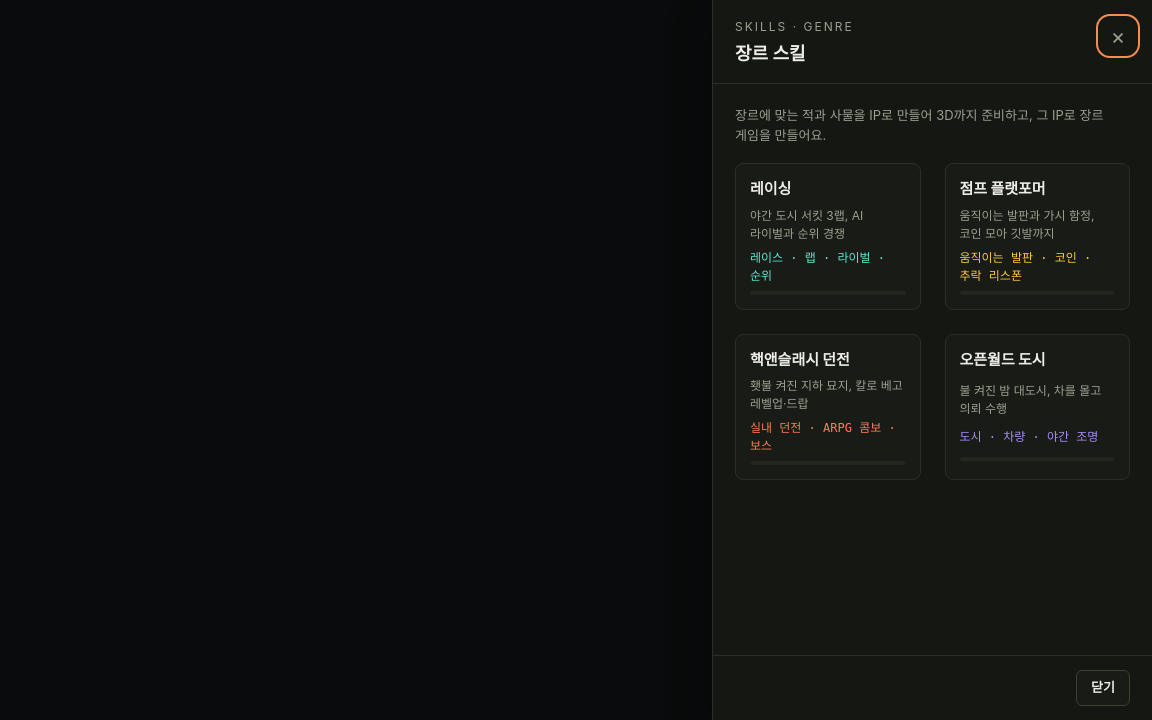
it: R20-38 장르 스킬 says what its button starts and asks before it starts › asks first with the pictures, the 3D models and the time, and starts nothing on 취소
Later steps or results of the test are not shown.
Step 1. Click the button "레이싱 야간 도시 서킷 3랩, AI 라이벌과 순위 경쟁 레이스 · 랩 · 라이벌 · 순위" → (828, 236), box [735, 163, 920, 310]
(page scrolled)
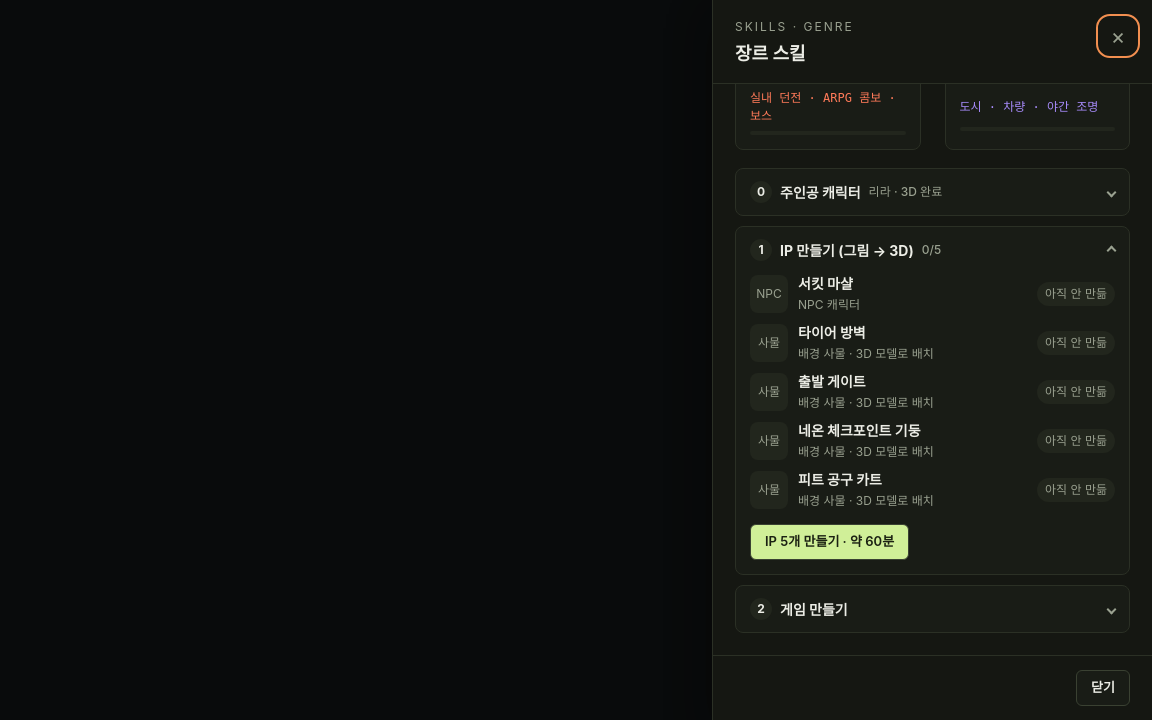
Step 2. Click the button "IP 5개 만들기 · 약 60분" → (830, 542), box [750, 524, 909, 560]
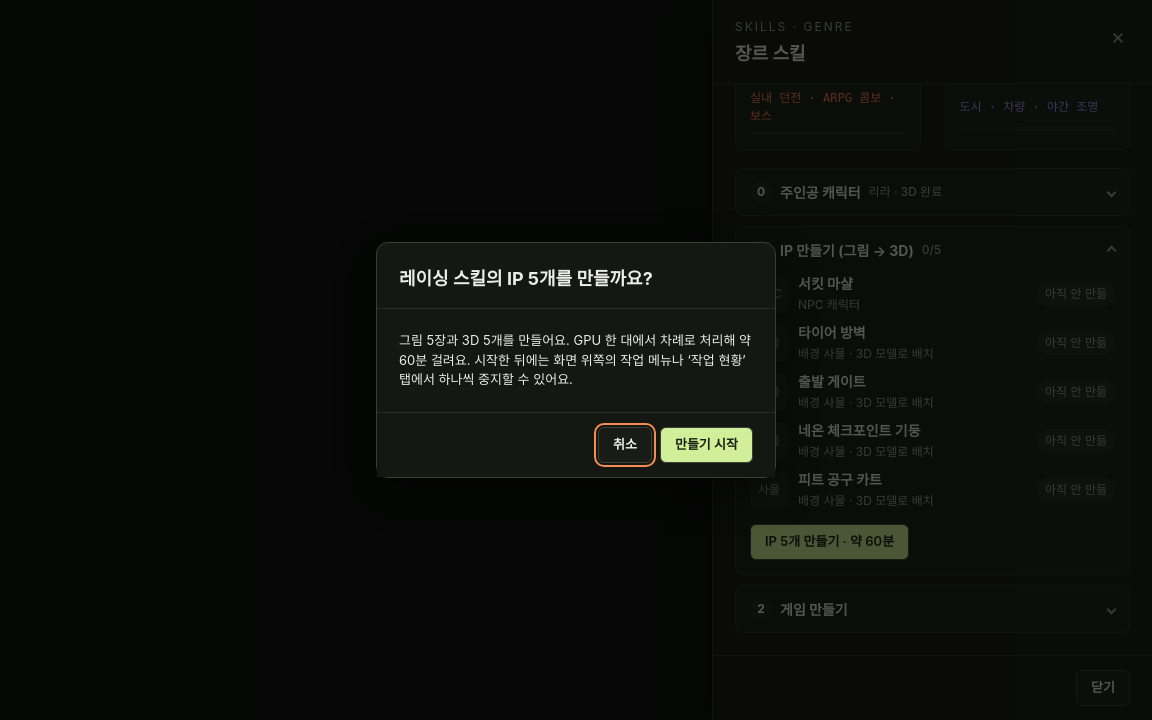
Now the heading "레이싱 스킬의 IP 5개를 만들까요?" is shown, box [399, 265, 653, 292]
Now the text with class "dialog-lead" shows "그림 5장과 3D 5개를 만들어요. GPU 한 대에서 차례로 처리해 약 60분 걸려요. 시작한 뒤에는 화면 위쪽의 작업 메뉴나 ‘작업 현황’ 탭에서 하나씩 중지할 수 있어요.", box [399, 332, 751, 387]
